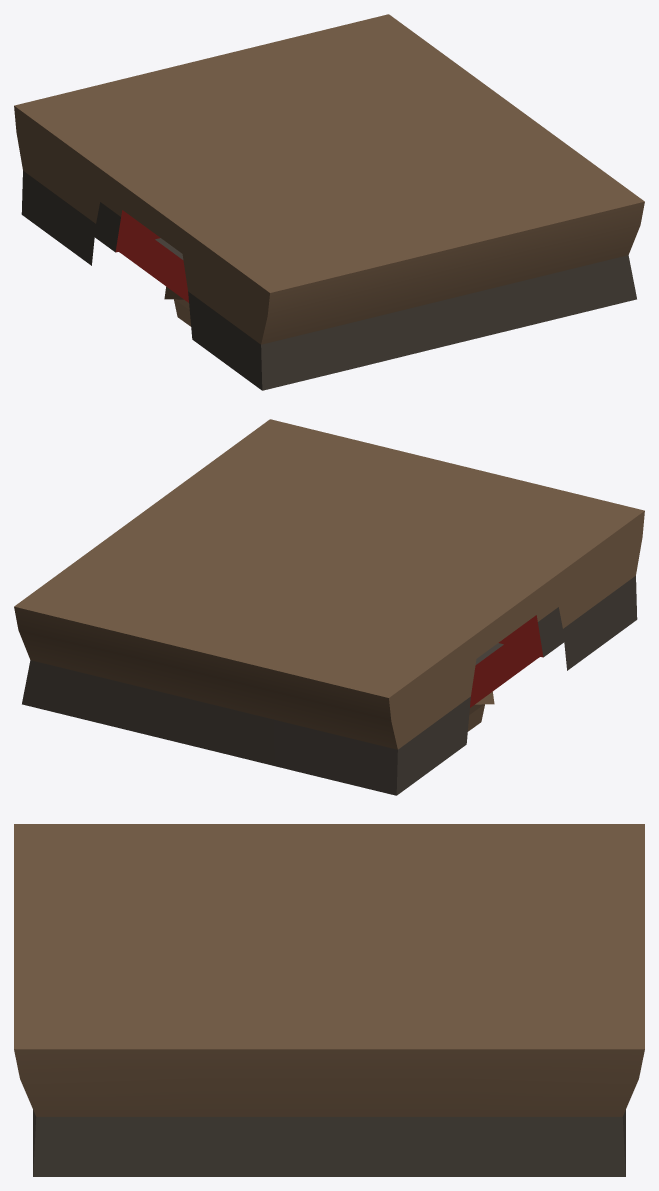
Rendered from 13.-CuartoSpawn.fbx.
The picture shows the model from 3 angles, top to bottom: view 1: azimuth 30°, elevation 25°; view 2: azimuth 150°, elevation 25°; view 3: azimuth 270°, elevation 25°; orthographic projection. The views are drawn at different scales.
Visible parts, largest first — view 1: 01.-CuartoSpawn; view 2: 01.-CuartoSpawn; view 3: 01.-CuartoSpawn.
Boxes of the visible parts, x1,y1,x2,y2 form: 01.-CuartoSpawn: [14, 14, 644, 390]; 01.-CuartoSpawn: [14, 419, 644, 795]; 01.-CuartoSpawn: [14, 824, 644, 1176].
Size of the model in its own units: 2857 by 1234 by 3381.
